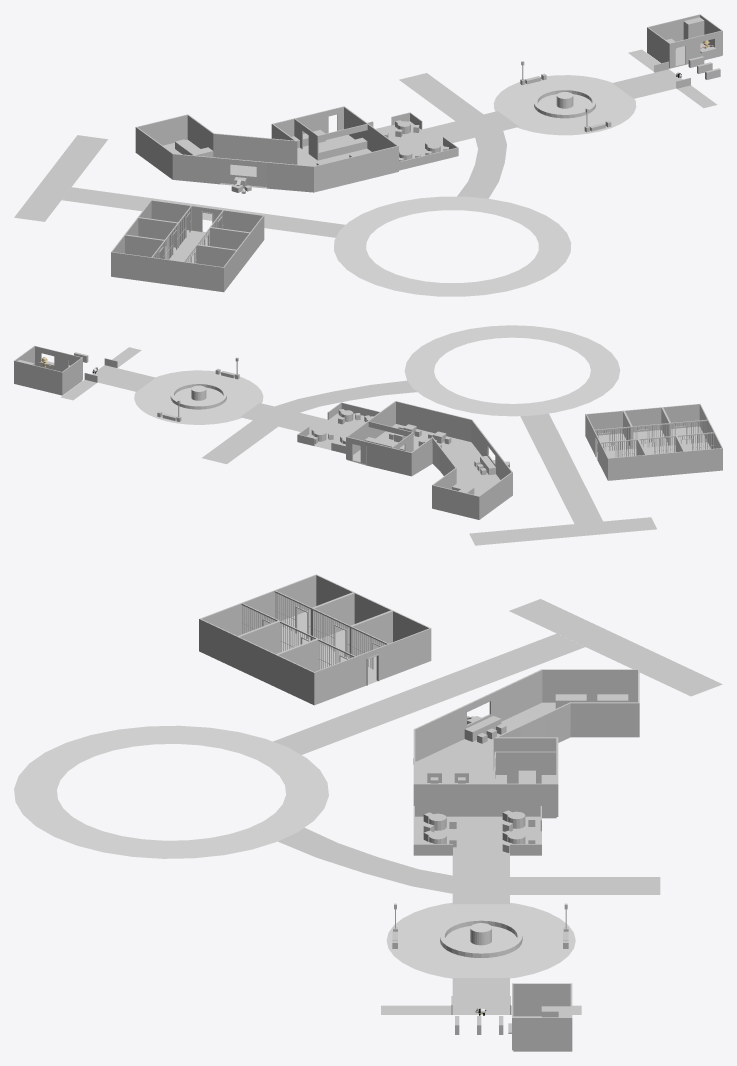
Rendered from Dummy.fbx.
3 renders of one model, top to bottom at view 1: azimuth 30°, elevation 25°; view 2: azimuth 150°, elevation 25°; view 3: azimuth 270°, elevation 25°, orthographic. The views are drawn at different scales.
Parts seen in each view (by area): view 1: Cube.006, Circle.001, Wall_1, Circle.005, Plane.003, Plane.001, Plane, Cube.050, Plane.002, Circle.006, Plane.005, Cube.053 (+9 smaller); view 2: Cube.006, Circle.001, Wall_1, Circle.005, Plane, Plane.003, Plane.001, Floor, Cube.050, Plane.002, Circle.006, Plane.005 (+6 smaller); view 3: Cube.006, Circle.001, Wall_1, Circle.005, Plane, Plane.003, Plane.001, Cube.050, Plane.002, Cube.001, Circle.006, Plane.005 (+7 smaller).
Part boxes in pixels (box(x1,y1,x2,y2)): Cube.006: box(135, 106, 398, 192); Circle.001: box(334, 196, 571, 296); Wall_1: box(111, 200, 264, 292); Circle.005: box(493, 75, 636, 135); Plane.003: box(399, 73, 506, 198); Plane.001: box(14, 135, 107, 221); Plane: box(62, 187, 345, 237); Cube.050: box(647, 14, 721, 68); Plane.002: box(423, 111, 519, 143); Circle.006: box(534, 88, 595, 118); Plane.005: box(612, 69, 682, 98); Cube.053: box(669, 30, 722, 68); Cube.006: box(347, 401, 512, 519); Circle.001: box(404, 325, 620, 416); Wall_1: box(585, 403, 722, 480); Circle.005: box(134, 370, 263, 424); Plane: box(520, 413, 602, 523); Plane.003: box(202, 380, 416, 464); Plane.001: box(469, 517, 656, 545); Floor: box(596, 426, 710, 459); Cube.050: box(14, 346, 82, 395); Plane.002: box(240, 403, 327, 432); Circle.006: box(170, 382, 226, 409); Plane.005: box(92, 365, 155, 391); Cube.006: box(413, 669, 639, 818); Circle.001: box(14, 725, 328, 858); Wall_1: box(199, 574, 431, 705); Circle.005: box(386, 902, 575, 978); Plane: box(273, 633, 584, 754); Plane.003: box(278, 827, 660, 894); Plane.001: box(509, 599, 722, 696); Cube.050: box(513, 983, 572, 1051); Plane.002: box(452, 855, 509, 904); Cube.001: box(415, 816, 541, 855); Circle.006: box(440, 918, 522, 957); Plane.005: box(452, 978, 509, 1014).
Bounding box in the file's own units: 14900 × 598 × 9889.
